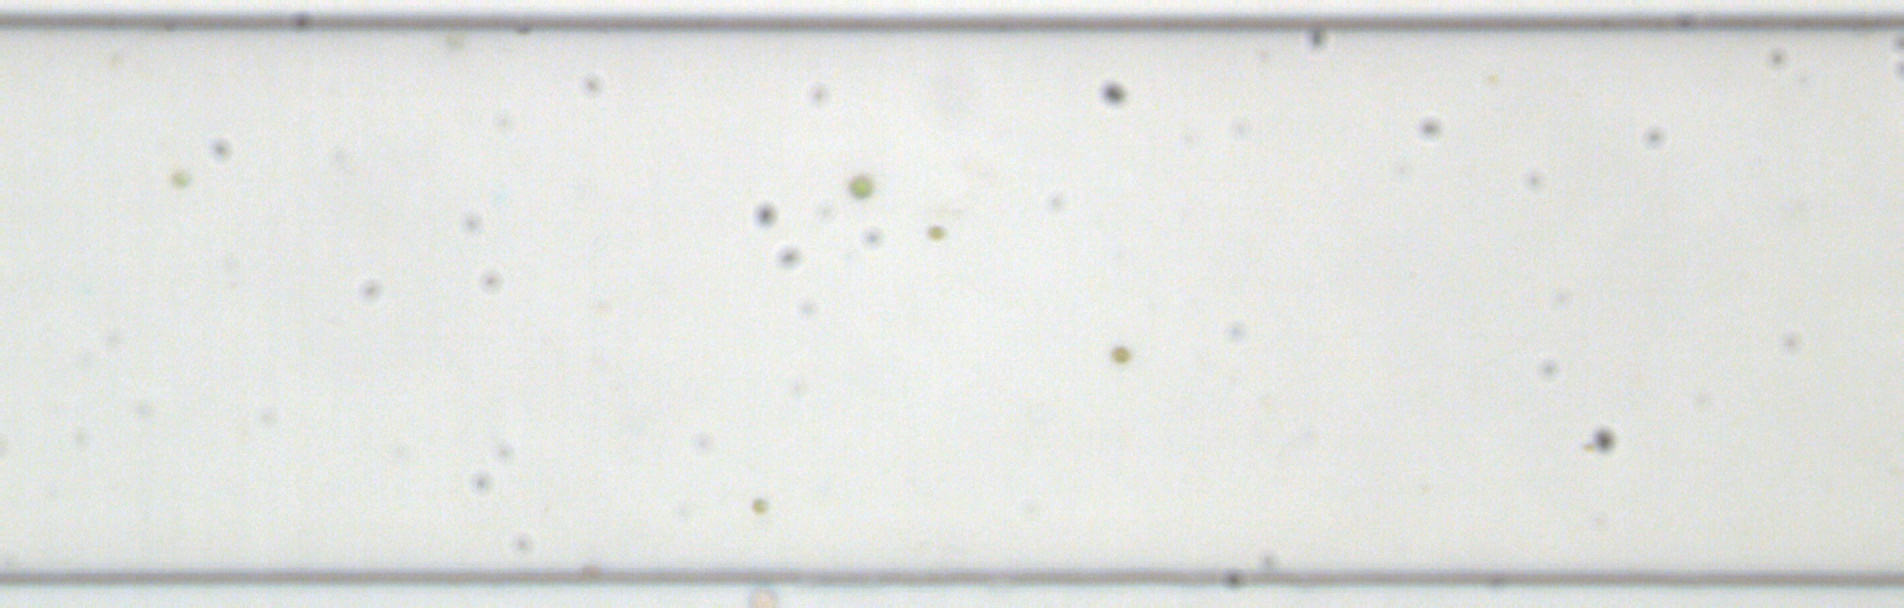Chlorella: (846, 175, 871, 199), (749, 494, 771, 515), (1107, 343, 1130, 363), (169, 167, 191, 186), (926, 222, 943, 242)
